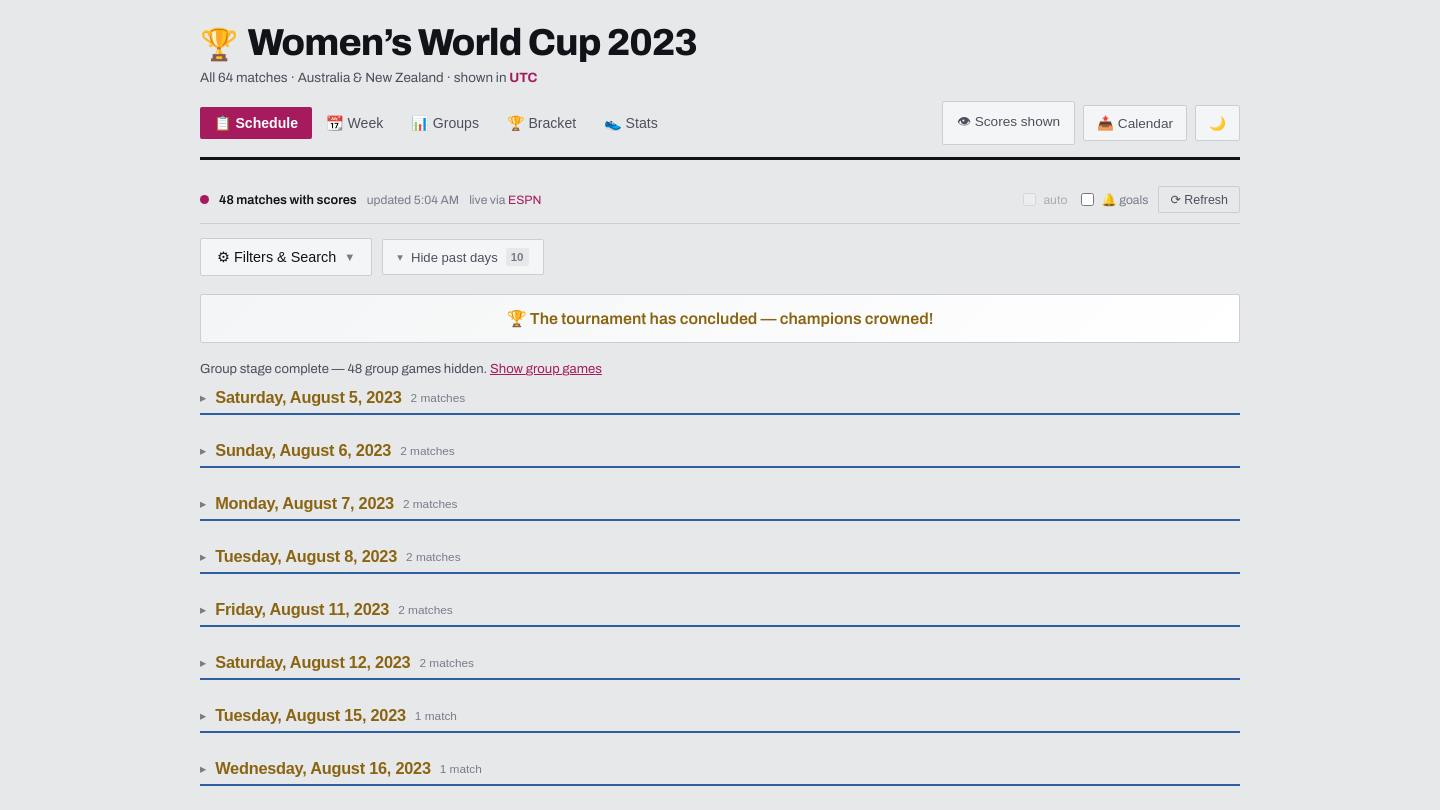
Test: App coverage — extra lines › shows the "group games hidden" schedule note once the group stage is archived
Expected: the text "Group stage complete" shows "group games hidden", [200,361,602,376]
Clicking "Show group games" sets the Group stage filter and clears the note.
Step 1. Click the button "Show group games" → coordinates (546, 369), box [490,361,602,376]
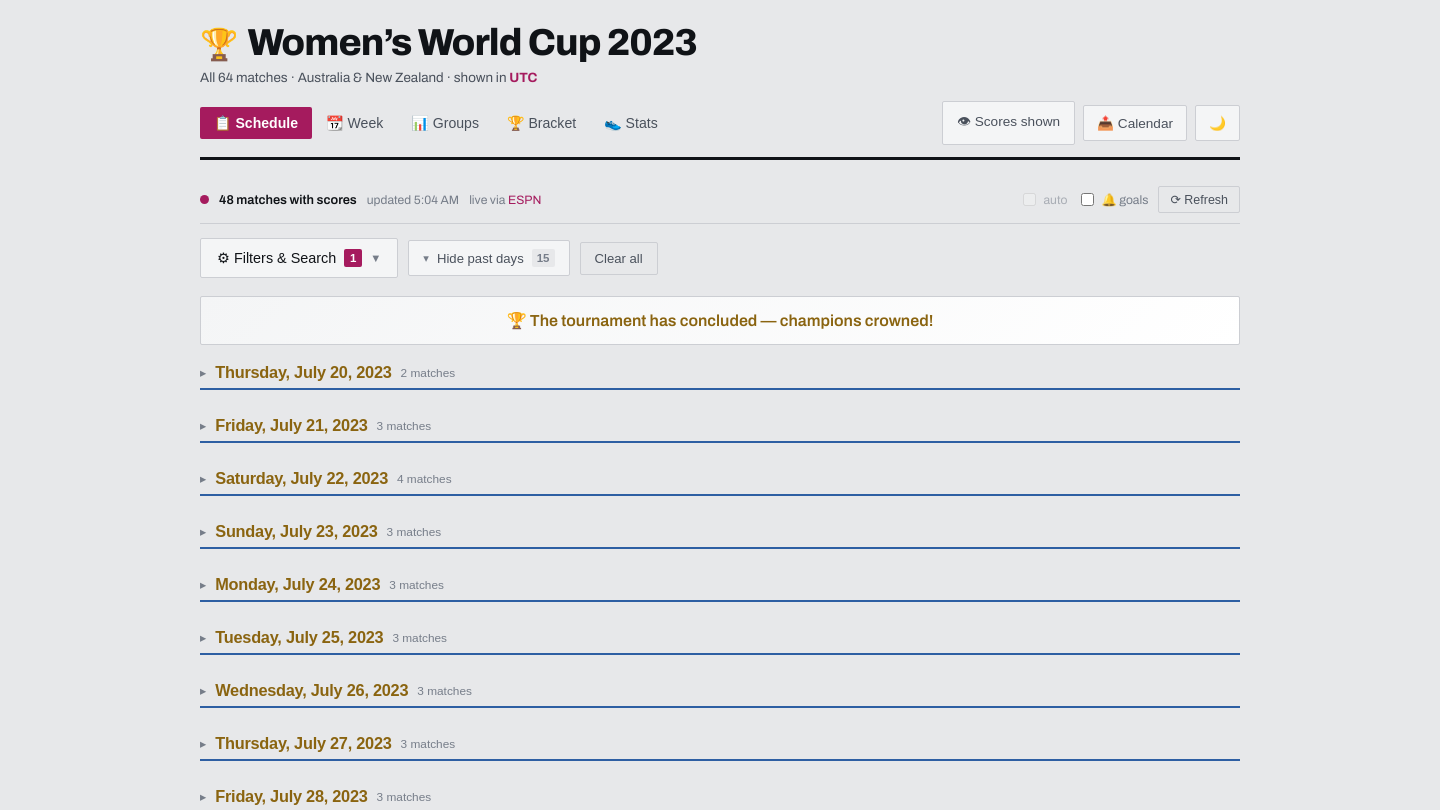
Result: the text "Group stage complete" is gone
